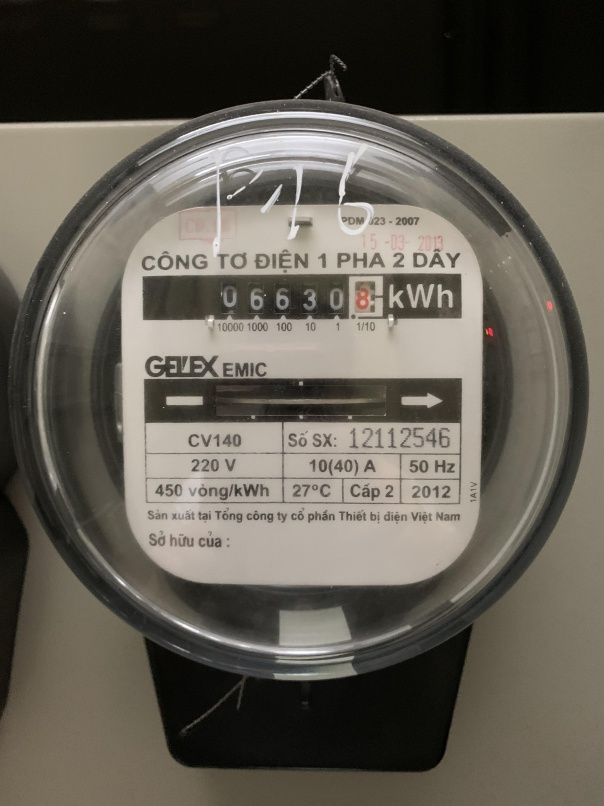counter: (142, 274, 465, 319)
electricity_meter: (17, 100, 592, 675)
